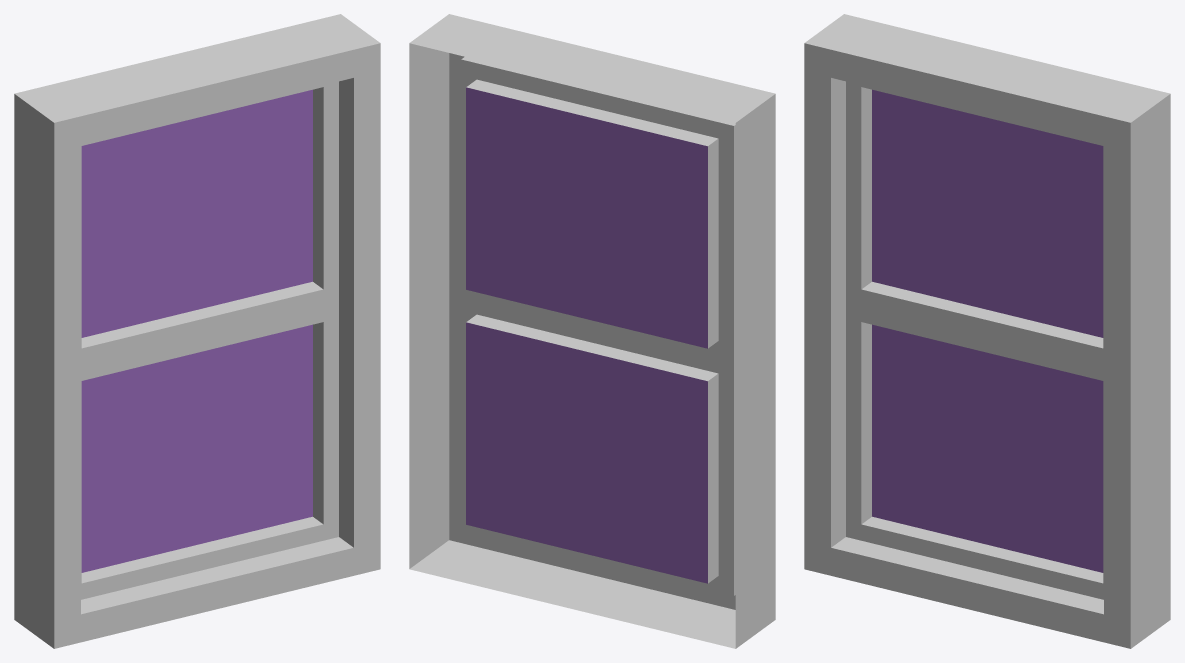
File: janela.FBX
3 renders of one model, left to right at view 1: azimuth 30°, elevation 25°; view 2: azimuth 150°, elevation 25°; view 3: azimuth 330°, elevation 25°, orthographic.
Parts seen in each view (by area): view 1: Box040; view 2: Box040; view 3: Box040.
Boxes of the visible parts, x1,y1,x2,y2 form: Box040: (14, 14, 380, 648); Box040: (409, 14, 775, 648); Box040: (804, 14, 1170, 648).
Size of the model in its own units: 34.35 by 52.89 by 7.27.
